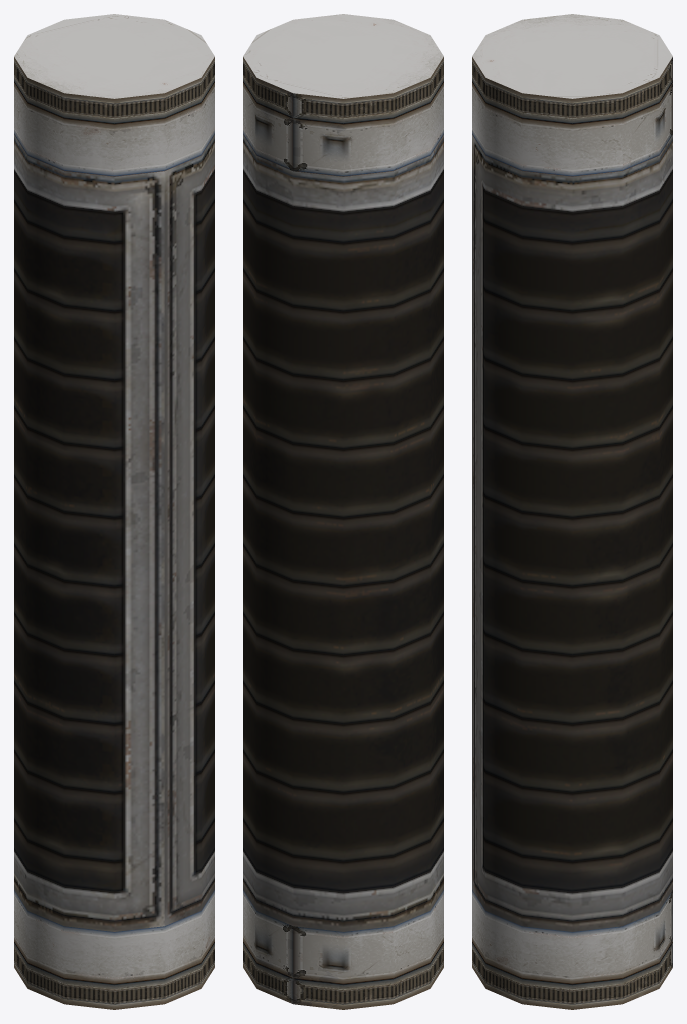
Rendered from scifi_pipe_medium_3.FBX.
3 views of the same model, side by side, from view 1: azimuth 30°, elevation 25°; view 2: azimuth 150°, elevation 25°; view 3: azimuth 270°, elevation 25° (orthographic).
Parts seen in each view (by area): view 1: Cylinder013; view 2: Cylinder013; view 3: Cylinder013.
Part boxes in pixels (x1,y1,x2,y2): Cylinder013: (14, 14, 214, 1009); Cylinder013: (243, 14, 443, 1009); Cylinder013: (472, 14, 672, 1009).
Size of the model in its own units: 50.8 by 254 by 50.8.
